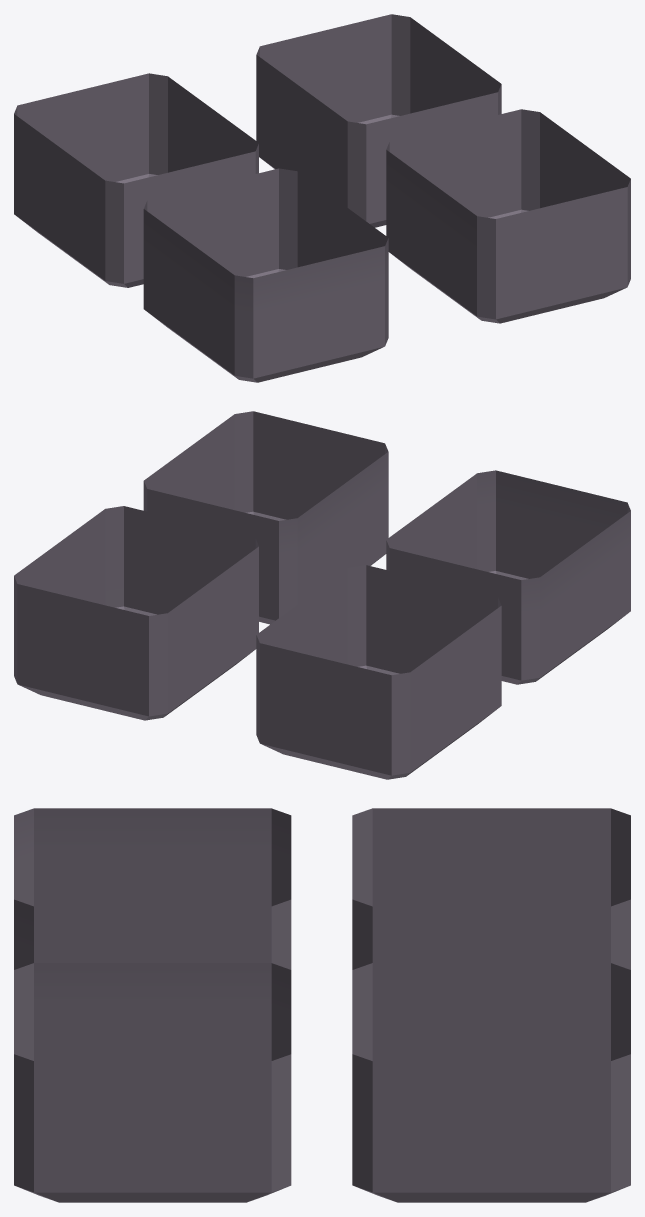
File: Dock_Swimmer_01.fbx
The picture shows the model from 3 angles, top to bottom: view 1: azimuth 30°, elevation 25°; view 2: azimuth 150°, elevation 25°; view 3: azimuth 270°, elevation 25°; orthographic projection. The views are drawn at different scales.
Parts seen in each view (by area): view 1: Dock_Swimmer_01; view 2: Dock_Swimmer_01; view 3: Dock_Swimmer_01.
Boxes of the visible parts, <box> form: Dock_Swimmer_01: <box>14,14,630,382</box>; Dock_Swimmer_01: <box>14,411,630,779</box>; Dock_Swimmer_01: <box>14,808,630,1202</box>.
Size of the model in its own units: 210 by 58.28 by 217.
